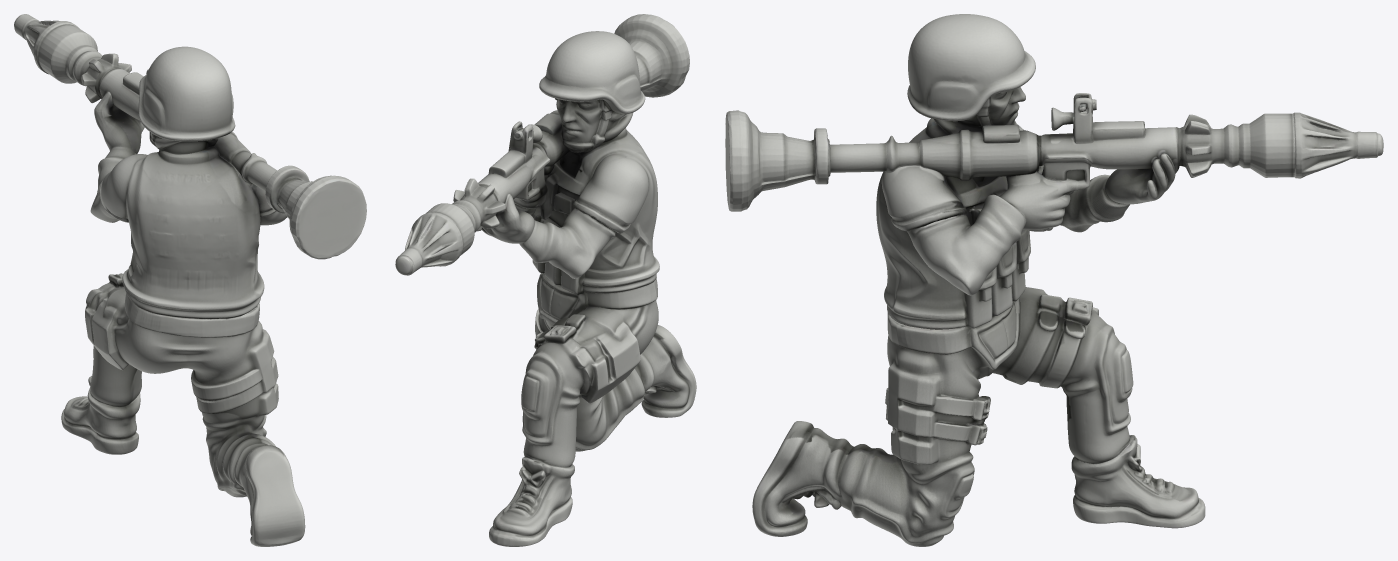
The model's file is soldier_rocket.glb.
The picture shows the model from 3 angles, left to right: view 1: azimuth 30°, elevation 25°; view 2: azimuth 150°, elevation 25°; view 3: azimuth 270°, elevation 25°; orthographic projection. The views are drawn at different scales.
Visible parts, largest first — view 1: tripo_node_0bffd675-d59d-433d-8863-03bd1a3347f1; view 2: tripo_node_0bffd675-d59d-433d-8863-03bd1a3347f1; view 3: tripo_node_0bffd675-d59d-433d-8863-03bd1a3347f1.
Part boxes in pixels (bbox=[...]): tripo_node_0bffd675-d59d-433d-8863-03bd1a3347f1: bbox=[14, 14, 366, 546]; tripo_node_0bffd675-d59d-433d-8863-03bd1a3347f1: bbox=[395, 14, 696, 546]; tripo_node_0bffd675-d59d-433d-8863-03bd1a3347f1: bbox=[725, 14, 1383, 546].
Size of the model in its own units: 0.3522 by 0.842 by 1.
Materials: 1 (1 with a texture image).
